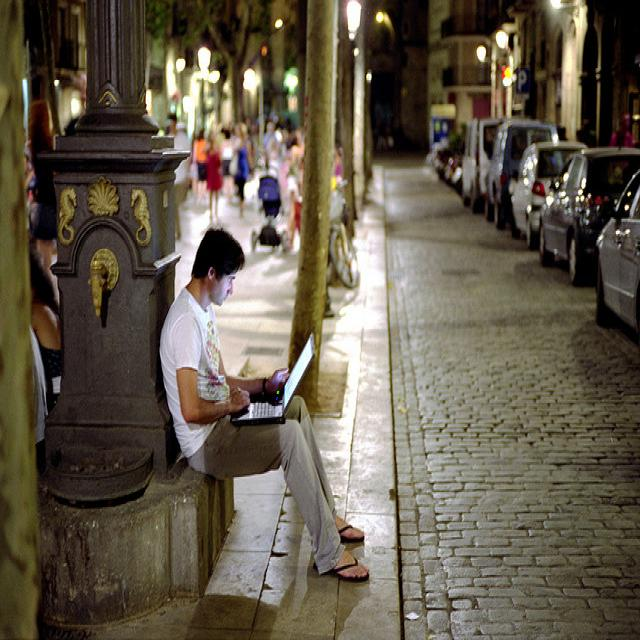Vehicle: (536, 145, 640, 289), (508, 140, 587, 250), (484, 115, 559, 229), (596, 169, 640, 345), (461, 120, 505, 210), (433, 132, 464, 192), (425, 140, 447, 170)
